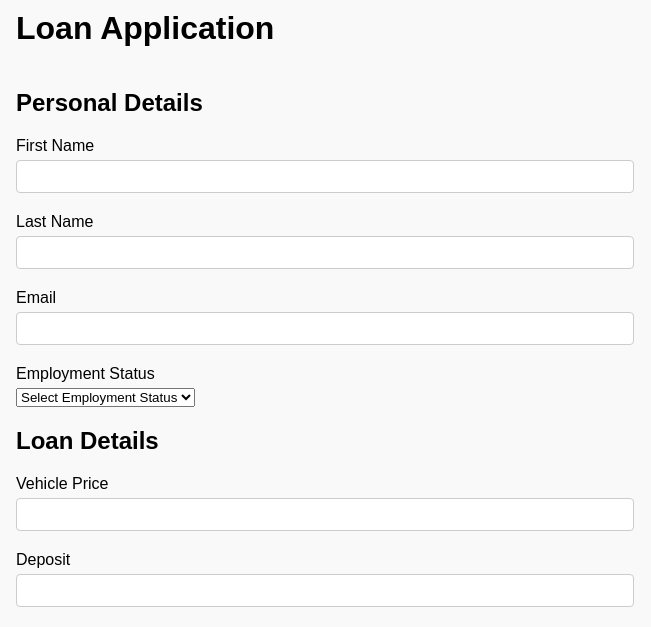
Test: Loan Application Form › should display employer name input if employment status is 'Employed'
The width and height of the screenshot is (651, 627).
Select "Employed" in the dropdown named "personalDetails.employmentStatus" at (106, 398), box [16,388,195,407]
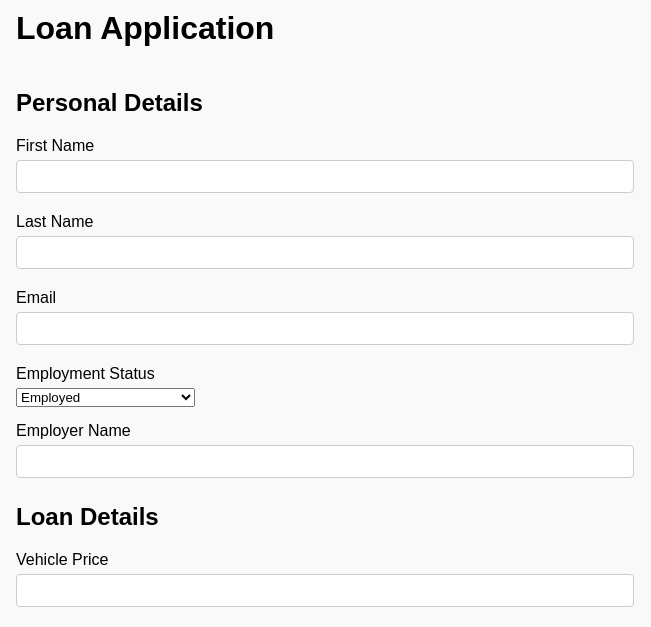
Expected: the field named "personalDetails.employerName" below "Employer Name" is shown, [16,445,634,478]
